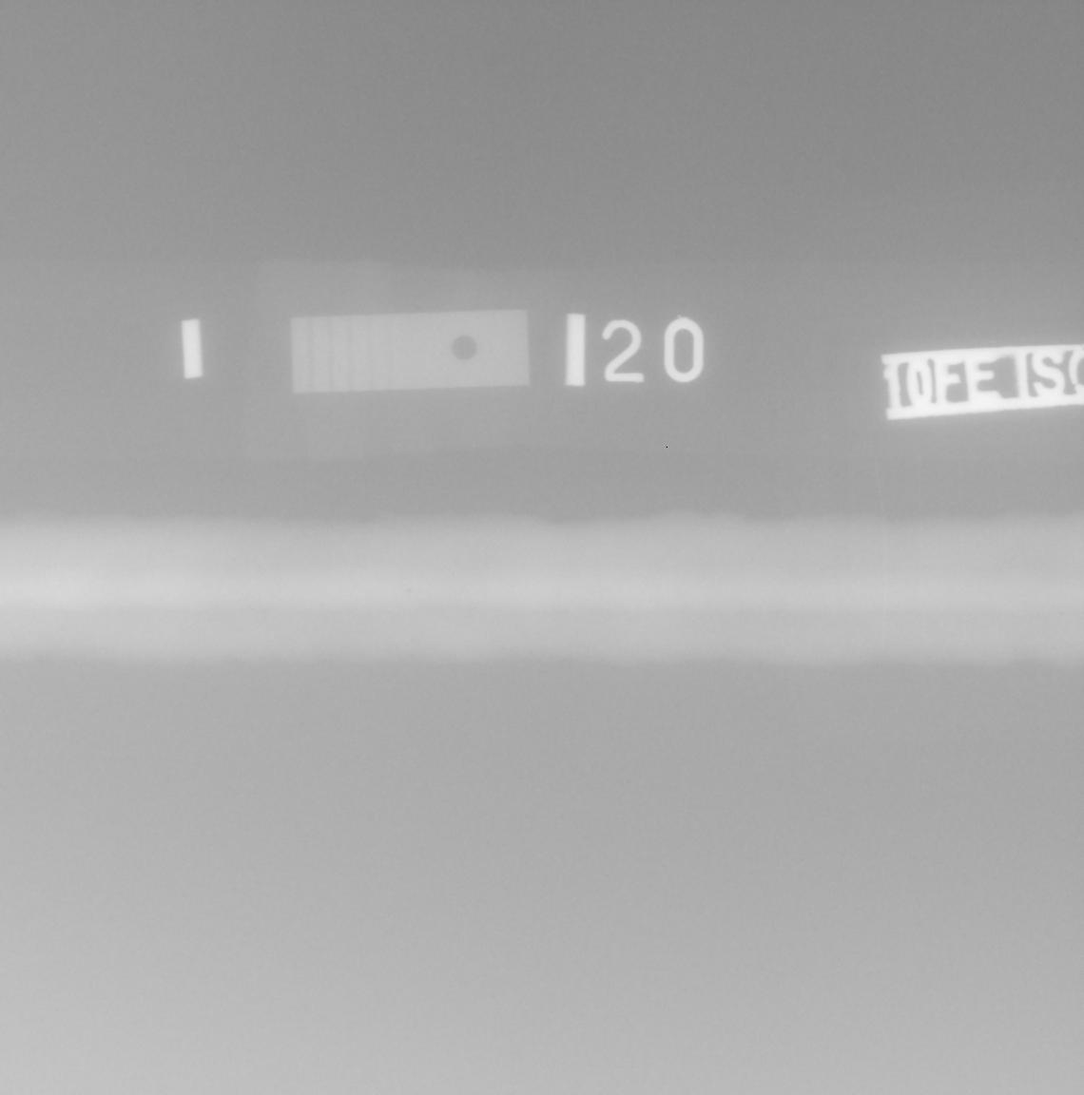Pore/Porosity: (405, 589, 412, 595), (1060, 611, 1064, 616)
Reference Standard 1: (291, 310, 530, 394)
